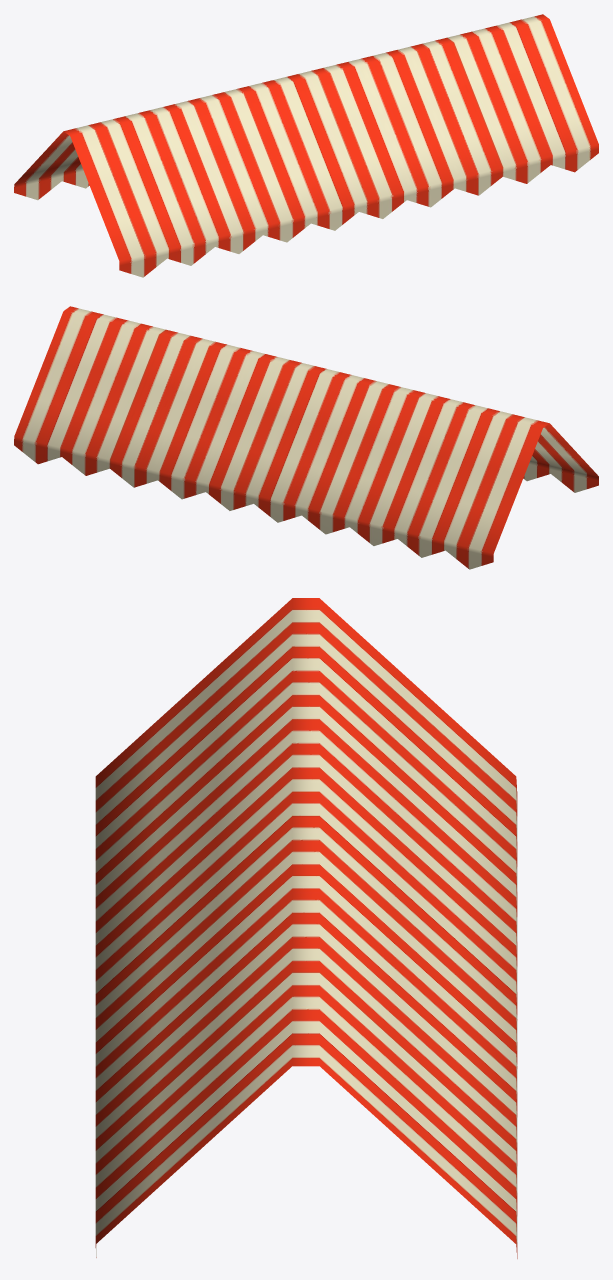
File: tent.glb
3 renders of one model, top to bottom at view 1: azimuth 30°, elevation 25°; view 2: azimuth 150°, elevation 25°; view 3: azimuth 270°, elevation 25°, orthographic. The views are drawn at different scales.
Visible parts, largest first — view 1: Grid; view 2: Grid; view 3: Grid.
Part boxes in pixels (<box>): Grid: <box>14,14,598,277</box>; Grid: <box>14,306,598,569</box>; Grid: <box>95,598,517,1258</box>.
Bounding box in the file's own units: 6.26 × 1.39 × 2.38.
Materials: 1 (1 with a texture image).
